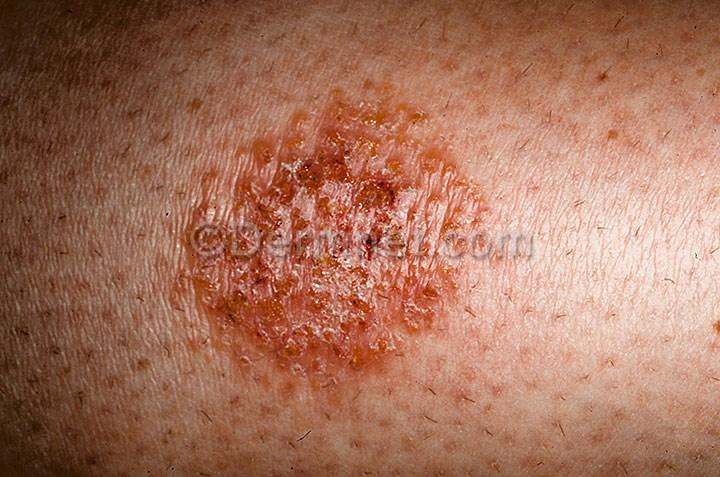Eczema: (125, 56, 512, 425)
